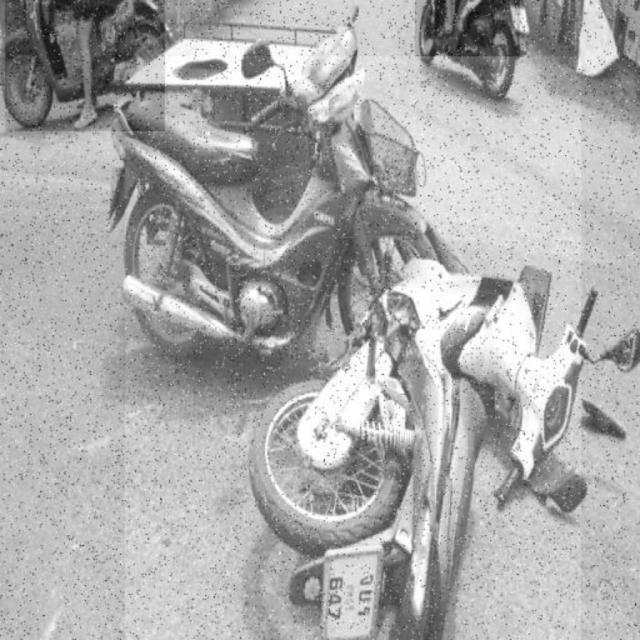accident: (126, 57, 582, 640)
vehicle: (6, 0, 166, 131), (414, 0, 519, 104)
